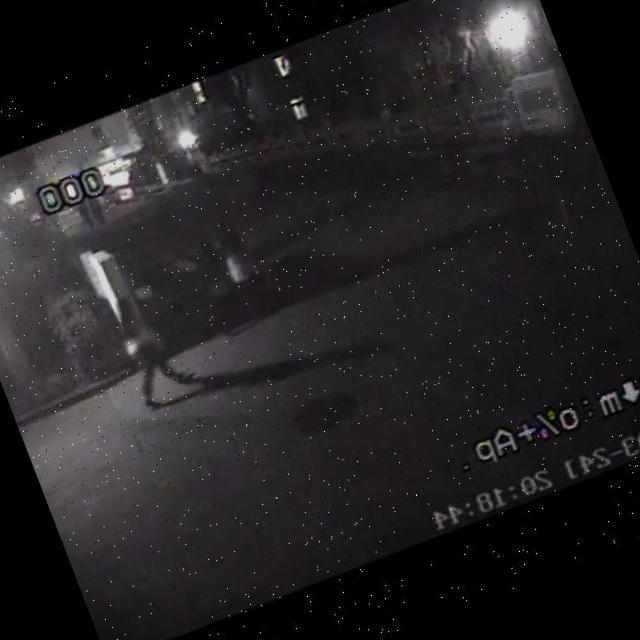person: (98, 274, 208, 418), (166, 233, 252, 347), (207, 219, 280, 331), (74, 201, 105, 244), (88, 195, 114, 236)
